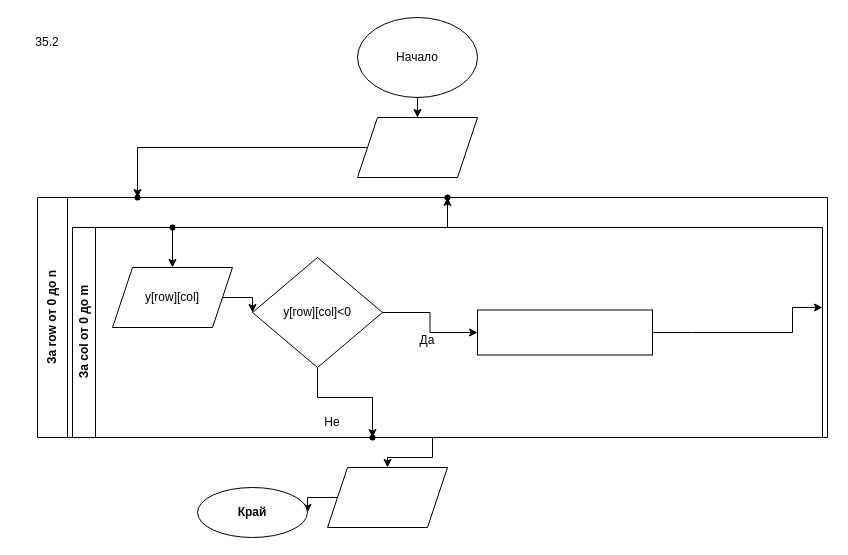
The diagram is 848 pixels wide and 555 high, and some of its shapes have lost their labels. Here are the shapes that lost their labels. From the top down, the centre of each, then its label:
point (417, 147): n,m, y*[n],T*[n]
point (564, 332): T[row][0] += y[row][col];
point (387, 497): изход y,T
